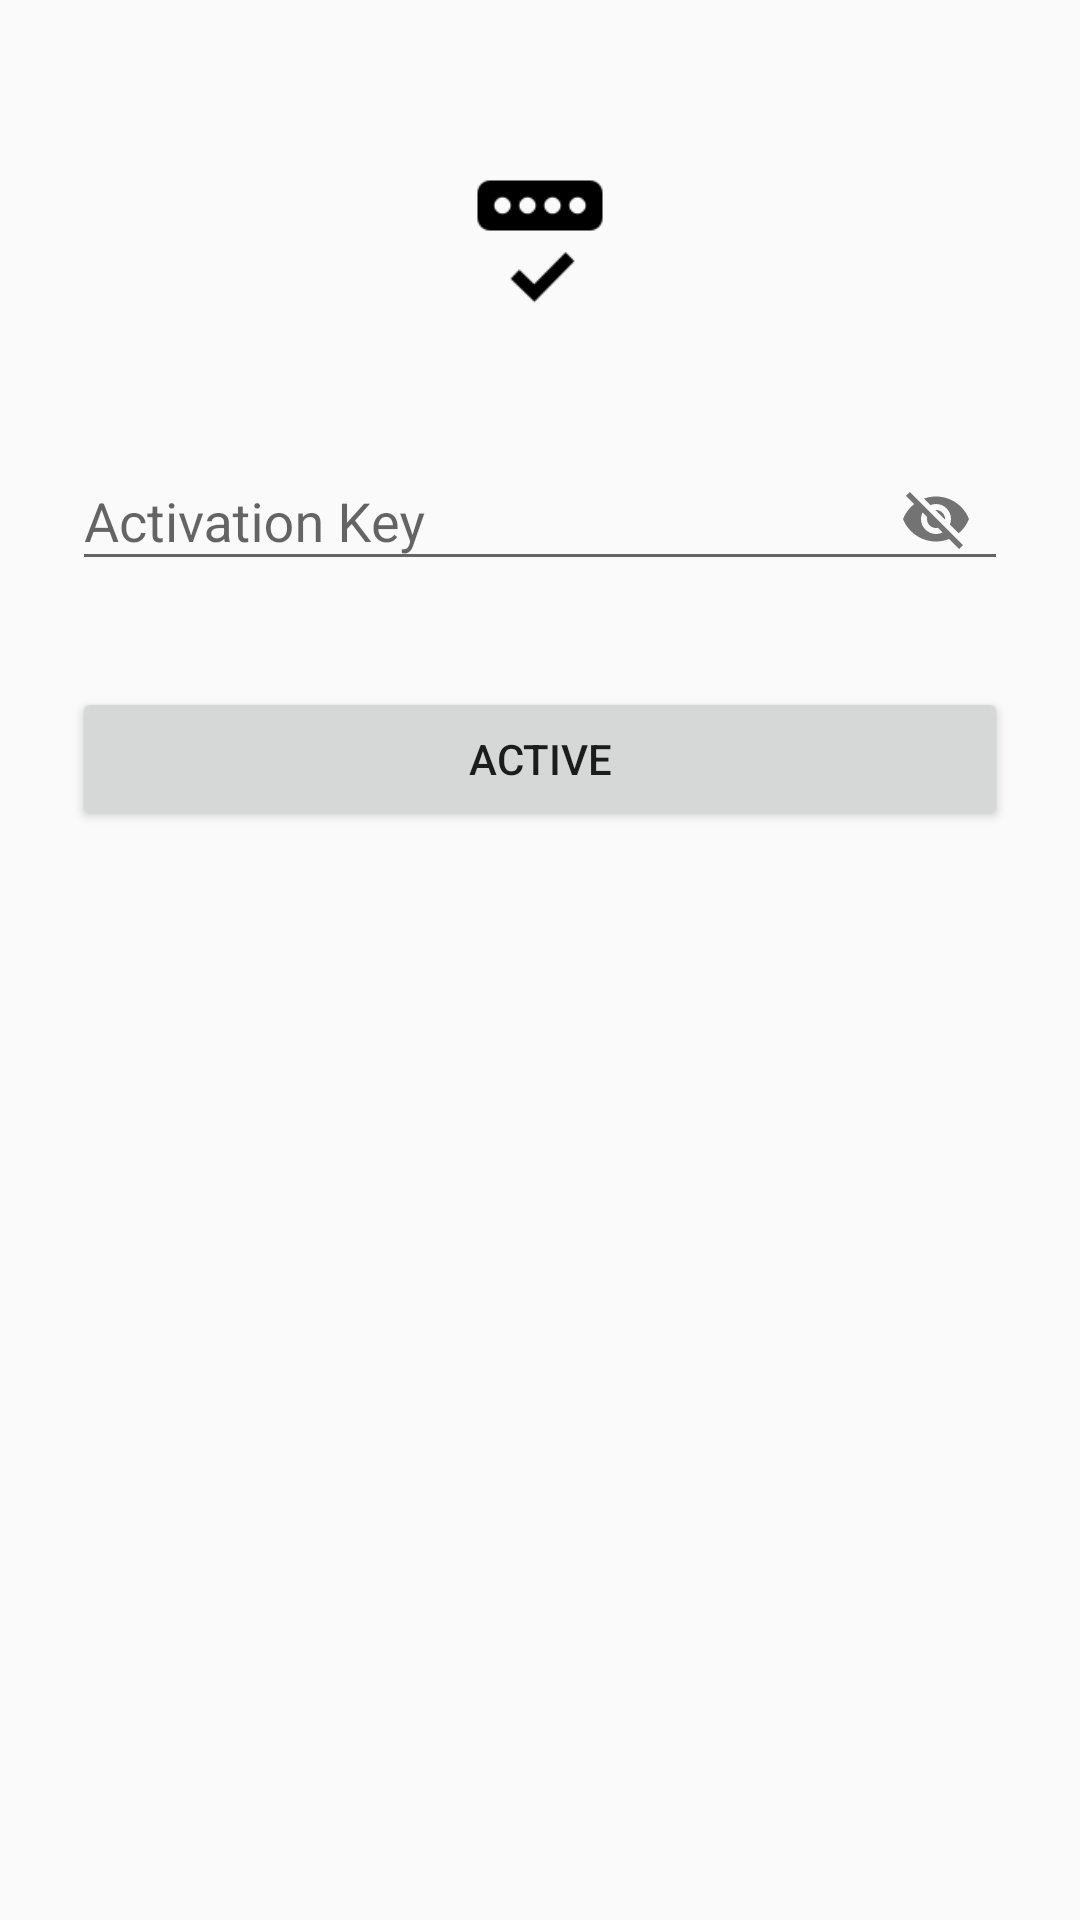

Icons on this 1080*1920 Android screen, each with its box as rect(x1, y1, x2, y2):
activation: rect(477, 180, 603, 303)
